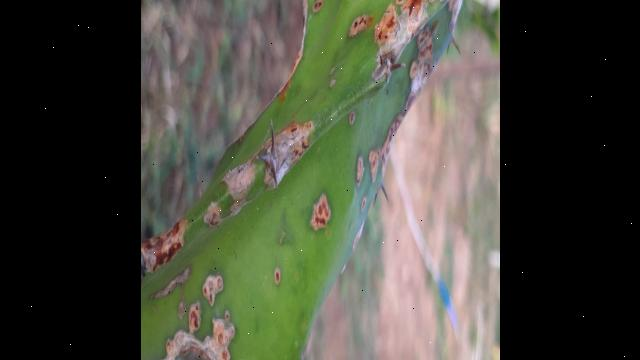stemcanker: (265, 116, 318, 189), (220, 155, 260, 202), (311, 187, 335, 235), (343, 10, 376, 43), (199, 270, 228, 306), (184, 301, 206, 337), (266, 259, 289, 291), (354, 150, 368, 189)
